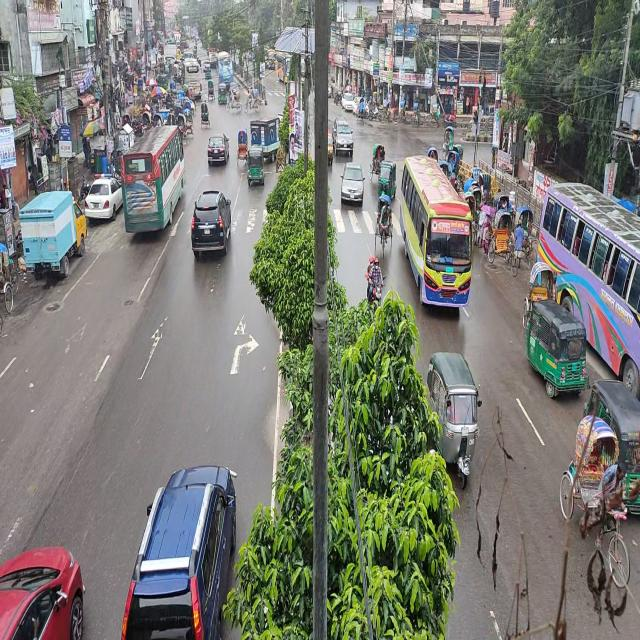black: (192, 192, 232, 260), (205, 133, 229, 165)
blue: (122, 465, 236, 640)
maroon: (0, 547, 85, 640)
silver: (340, 159, 364, 209)
white: (82, 177, 126, 220)
